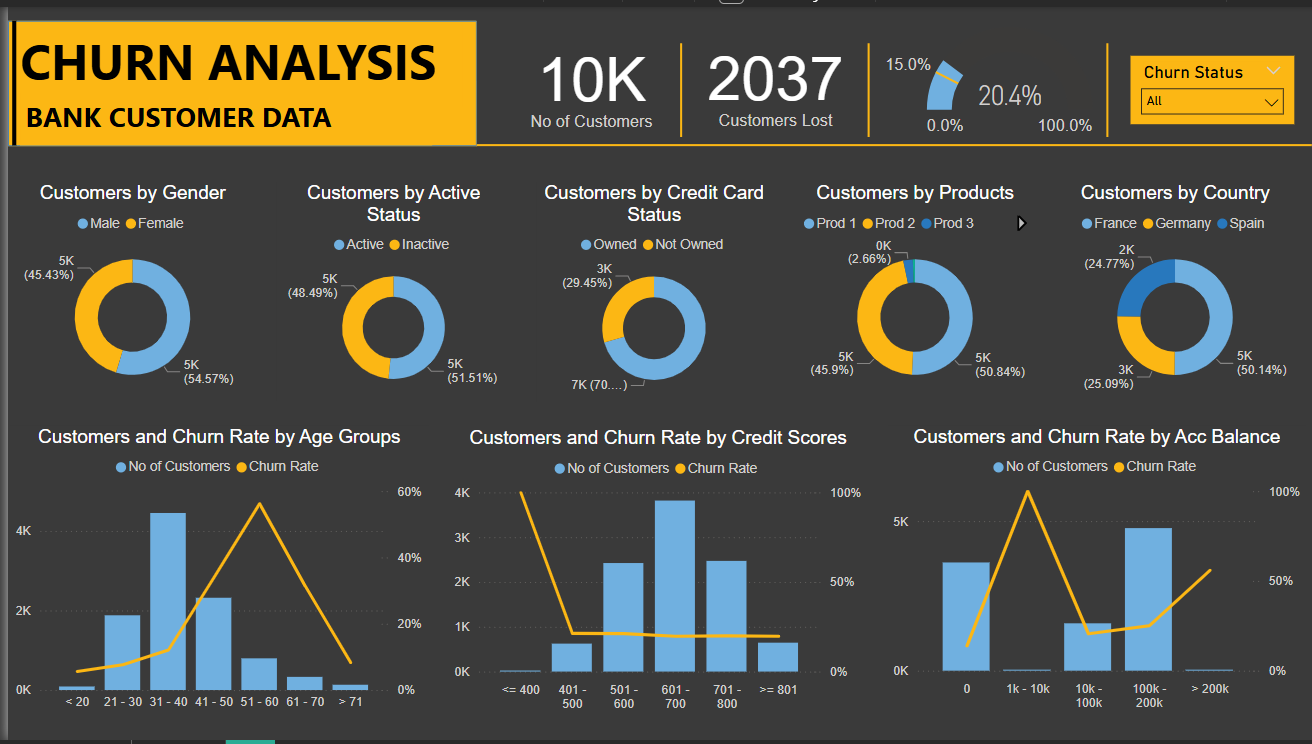

What the dashboard file says about the page in this screenshot:
{"tool":"powerbi","page":{"name":"Page 1","canvas":[1280,720],"ordinal":0},"visuals":[{"type":"shape","box":[0,13.7,460.3,123.2],"z":0},{"type":"card","fields":{"Values":["Bank Customer Data with Churn.No of Customers"]},"box":[482.7,14.9,181.6,120.7],"z":1000},{"type":"card","fields":{"Values":["Bank Customer Data with Churn.Customers Lost"]},"box":[653.1,14.9,201.5,119.4],"z":2000},{"type":"donutChart","title":"Customers by Gender","fields":{"Category":["Bank Customer Data with Churn.Gender"],"Y":["Bank Customer Data with Churn.No of Customers"]},"box":[7.6,172.8,230,215],"z":3000,"group":"g1"},{"type":"lineClusteredColumnComboChart","title":"Customers and Churn Rate by Age Groups","fields":{"Category":["Age Groups.Age Groups"],"Y":["Bank Customer Data with Churn.No of Customers"],"Y2":["Bank Customer Data with Churn.Churn Rate"]},"box":[2.5,411.1,410,287.4],"z":3000},{"type":"donutChart","title":"Customers by Active Status","fields":{"Y":["Bank Customer Data with Churn.No of Customers"],"Category":["Bank Customer Data with Churn.Active Status"]},"box":[263.5,172.9,229.4,214.7],"z":4000,"group":"g1"},{"type":"lineClusteredColumnComboChart","title":"Customers and Churn Rate by Credit Scores","fields":{"Y":["Bank Customer Data with Churn.No of Customers"],"Y2":["Bank Customer Data with Churn.Churn Rate"],"Category":["Credit Score Groups.Credit Scores Groups"]},"box":[432.9,411.8,410,287],"z":4000},{"type":"donutChart","title":"Customers by Credit Card Status","fields":{"Y":["Bank Customer Data with Churn.No of Customers"],"Category":["Bank Customer Data with Churn.Credit Card Status"]},"box":[518.9,172.3,230.7,216],"z":5000,"group":"g1"},{"type":"lineClusteredColumnComboChart","title":"Customers and Churn Rate by Acc Balance","fields":{"Y":["Bank Customer Data with Churn.No of Customers"],"Y2":["Bank Customer Data with Churn.Churn Rate"],"Category":["Acc Balance Groups.Acc Balance "]},"box":[863.3,411.1,410,287.4],"z":5000},{"type":"donutChart","title":"Customers by Country","fields":{"Y":["Bank Customer Data with Churn.No of Customers"],"Category":["Bank Customer Data with Churn.Country"]},"box":[1031.4,172.8,230.1,215],"z":6000,"group":"g1"},{"type":"slicer","fields":{"Values":["Bank Customer Data with Churn.Churn Status"]},"box":[1101.8,47.9,160.7,67.5],"z":6000},{"type":"donutChart","title":"Customers by Products","fields":{"Y":["Bank Customer Data with Churn.No of Customers"],"Category":["Bank Customer Data with Churn.Products"]},"box":[775.5,172.8,230,215],"z":7000,"group":"g1"},{"type":"gauge","fields":{"Y":["Bank Customer Data with Churn.Churn Rate"],"MaxValue":["Max(Bank Customer Data with Churn.Max Churn Rate)"],"MinValue":["Min(Bank Customer Data with Churn.Min Churn Rate)"],"TargetValue":["Max(Bank Customer Data with Churn.Target Churn Rate)"]},"box":[844.2,14.7,233.1,119],"z":7000},{"type":"group","id":"g1","title":"Group 1","box":[7.6,172.3,1253.9,216],"z":8000},{"type":"textbox","box":[7.4,14.7,438,83.4],"z":9000},{"type":"textbox","box":[12.3,84.7,403.7,51.5],"z":10000},{"type":"shape","box":[460.1,40.5,819.6,190.2],"z":11000},{"type":"shape","box":[546,35.6,229.4,92],"z":12000},{"type":"shape","box":[730.1,35.6,229.4,92],"z":13000},{"type":"shape","box":[964.4,35.6,229.4,92],"z":14000},{"type":"shape","box":[0,13.5,12.3,122.7],"z":15000}]}

Visuals, with their boxes in screenshot pixels (x1, y1, x2, y2), scaled from the page's 1280x720 canvas onto the 1312x744 screenshot:
shape: 0,14,472,141
card - Bank Customer Data with Churn.No of Customers: 495,15,681,140
card - Bank Customer Data with Churn.Customers Lost: 669,15,876,139
"Customers by Gender" donutChart: 8,179,244,401
"Customers and Churn Rate by Age Groups" lineClusteredColumnComboChart: 3,425,423,722
"Customers by Active Status" donutChart: 270,179,505,401
"Customers and Churn Rate by Credit Scores" lineClusteredColumnComboChart: 444,426,864,722
"Customers by Credit Card Status" donutChart: 532,178,768,401
"Customers and Churn Rate by Acc Balance" lineClusteredColumnComboChart: 885,425,1305,722
"Customers by Country" donutChart: 1057,179,1293,401
slicer - Bank Customer Data with Churn.Churn Status: 1129,49,1294,119
"Customers by Products" donutChart: 795,179,1031,401
gauge - Bank Customer Data with Churn.Churn Rate x Max(Bank Customer Data with Churn.Max Churn Rate): 865,15,1104,138
"Group 1" group: 8,178,1293,401
textbox: 8,15,457,101
textbox: 13,88,426,141
shape: 472,42,1311,238
shape: 560,37,795,132
shape: 748,37,983,132
shape: 989,37,1224,132
shape: 0,14,13,141
